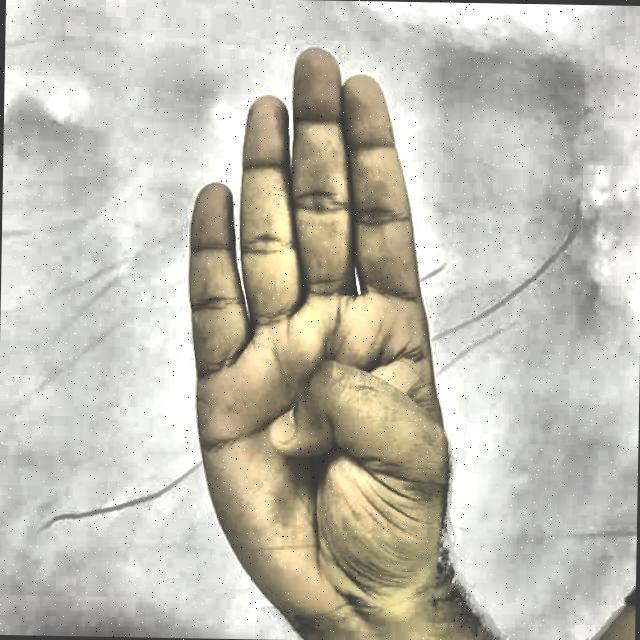Ba: (140, 26, 516, 640)
